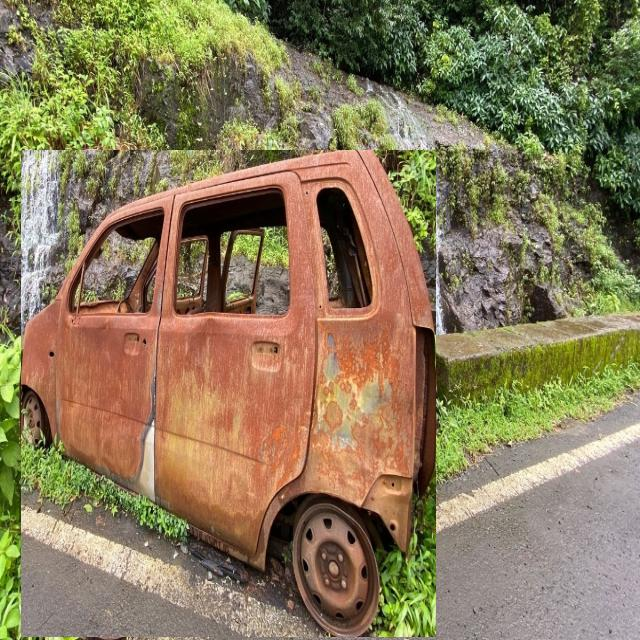accident: (21, 151, 436, 637)
